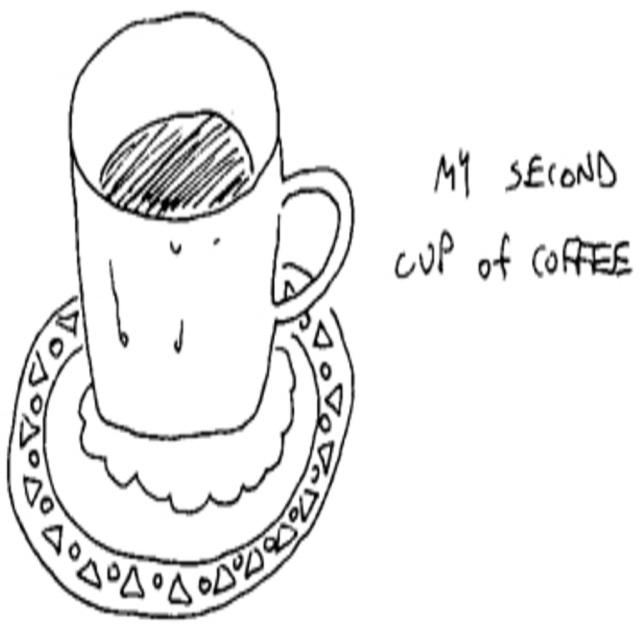Coffee: (64, 39, 350, 450)
